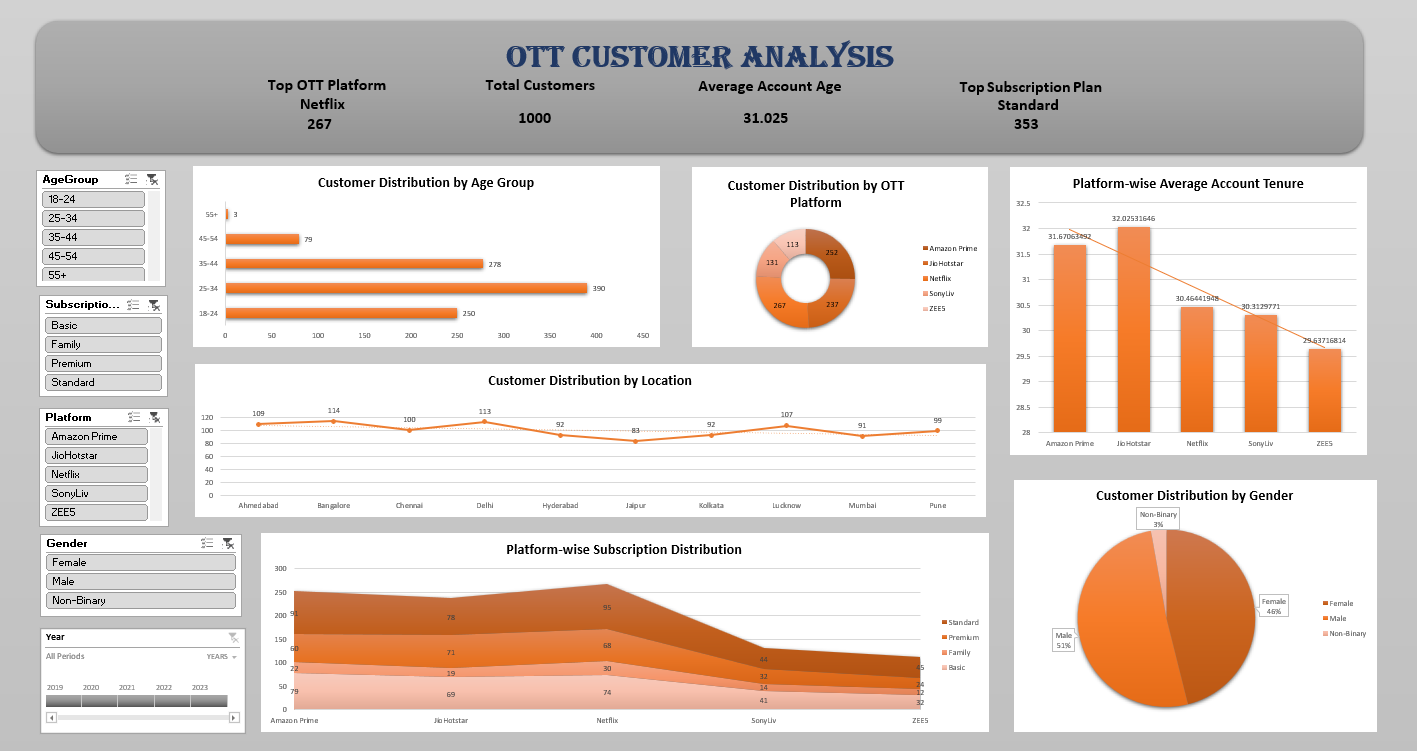

The dashboard page shown, as its layout file describes it:
{"tool":"powerbi","page":{"name":"Page 1","canvas":[1280,720],"ordinal":0},"visuals":[{"type":"shape","box":[11.2,17.5,1257.5,162.5],"z":0},{"type":"shape","box":[910,417.5,358.8,290],"z":1000},{"type":"shape","box":[240.6,80.2,214.4,87.9],"z":2000},{"type":"shape","box":[23.3,78.2,199,87.8],"z":3000},{"type":"cardVisual","title":"Total Customers","fields":{"Data":["DateTable.Total Customers"]},"box":[23.3,87.8,199,79.6],"z":4000},{"type":"cardVisual","title":"Total Platforms","fields":{"Data":["DateTable.Total Platforms"]},"box":[262.2,87.9,171.2,80.2],"z":5000},{"type":"shape","box":[981.2,77.5,266.9,87.9],"z":6000},{"type":"shape","box":[698.8,80,257.6,87.9],"z":7000},{"type":"shape","box":[473.6,81.8,203.6,87.9],"z":8000},{"type":"cardVisual","title":"Total Subscription","fields":{"Data":["DateTable.Total Subscription Plans"]},"box":[475.1,91,199,79.6],"z":9000},{"type":"cardVisual","title":"Average Customer Age","fields":{"Data":["DateTable.Average Customer Age"]},"box":[698.8,83.8,249.9,86.4],"z":10000},{"type":"cardVisual","title":"Average Account Tenure","fields":{"Data":["DateTable.Average Account Tenure"]},"box":[981.2,83.8,266.9,80.2],"z":11000},{"type":"shape","box":[205,188.8,333.8,225],"z":12000},{"type":"barChart","title":"Customers by Platform","fields":{"Category":["OTT_data.Platform"],"Y":["DateTable.Total Customers"]},"box":[205,192.5,336.2,225],"z":13000},{"type":"shape","box":[11.2,445,406.2,255],"z":14000},{"type":"shape","box":[433.8,413.8,463.8,142.5],"z":15000},{"type":"shape","box":[923.8,188.8,345,208.8],"z":16000},{"type":"shape","box":[550,188.8,360,215],"z":17000},{"type":"shape","box":[433.8,566.2,466.2,141.2],"z":18000},{"type":"columnChart","title":"Customers by Age Group","fields":{"Category":["OTT_data.AgeGroup"],"Y":["DateTable.Total Customers"]},"box":[936.2,436.2,320,251.2],"z":19000},{"type":"donutChart","fields":{"Category":["OTT_data.SubscriptionType"],"Y":["DateTable.Total Customers"]},"box":[11.2,458.8,387.5,252.5],"z":20000},{"type":"lineChart","title":"Platform-wise Signup Trend","fields":{"Y":["DateTable.Total Customers"],"Category":["OTT_data.Platform"]},"box":[445,567.5,452.5,143.8],"z":21000},{"type":"lineChart","fields":{"Category":["DateTable.Year"],"Y":["DateTable.Total Customers"]},"box":[445,413.8,441.2,142.5],"z":22000},{"type":"areaChart","title":"Top 5 Customer Locations","fields":{"Y":["DateTable.Total Customers"],"Category":["OTT_data.Location"]},"box":[923.8,196.2,345,200],"z":23000},{"type":"treemap","title":"Customers by PreferredLanguage","fields":{"Group":["OTT_data.PreferredLanguage"],"Values":["DateTable.Total Customers"]},"box":[562.5,196.2,335,188.8],"z":24000},{"type":"slicer","title":"Gender","fields":{"Values":["OTT_data.Gender"]},"box":[23.8,203.8,161.2,88.8],"z":25000},{"type":"slicer","title":"Year","fields":{"Values":["DateTable.Year"]},"box":[23.8,322.5,161.2,91.2],"z":26000}]}

Visuals, with their boxes on the page's 1280x720 design canvas (x1, y1, x2, y2). These are canvas units, not pixel positions in the 1417x751 screenshot, which may show the page scaled, cropped or inside an application window:
shape: Rect(11, 18, 1269, 180)
shape: Rect(910, 418, 1269, 708)
shape: Rect(241, 80, 455, 168)
shape: Rect(23, 78, 222, 166)
"Total Customers" cardVisual: Rect(23, 88, 222, 167)
"Total Platforms" cardVisual: Rect(262, 88, 433, 168)
shape: Rect(981, 78, 1248, 165)
shape: Rect(699, 80, 956, 168)
shape: Rect(474, 82, 677, 170)
"Total Subscription" cardVisual: Rect(475, 91, 674, 171)
"Average Customer Age" cardVisual: Rect(699, 84, 949, 170)
"Average Account Tenure" cardVisual: Rect(981, 84, 1248, 164)
shape: Rect(205, 189, 539, 414)
"Customers by Platform" barChart: Rect(205, 192, 541, 418)
shape: Rect(11, 445, 417, 700)
shape: Rect(434, 414, 898, 556)
shape: Rect(924, 189, 1269, 398)
shape: Rect(550, 189, 910, 404)
shape: Rect(434, 566, 900, 707)
"Customers by Age Group" columnChart: Rect(936, 436, 1256, 687)
donutChart - OTT_data.SubscriptionType x DateTable.Total Customers: Rect(11, 459, 399, 711)
"Platform-wise Signup Trend" lineChart: Rect(445, 568, 898, 711)
lineChart - DateTable.Year x DateTable.Total Customers: Rect(445, 414, 886, 556)
"Top 5 Customer Locations" areaChart: Rect(924, 196, 1269, 396)
"Customers by PreferredLanguage" treemap: Rect(562, 196, 898, 385)
"Gender" slicer: Rect(24, 204, 185, 293)
"Year" slicer: Rect(24, 322, 185, 414)
